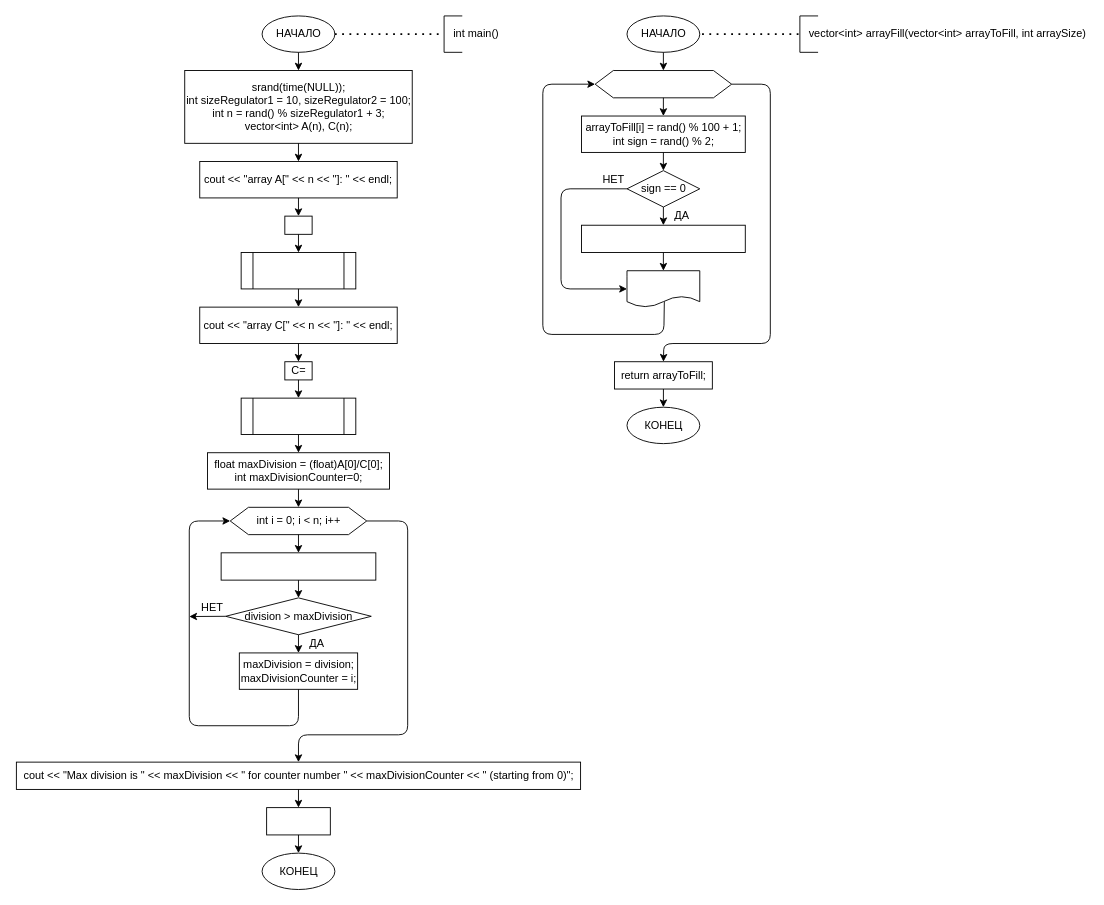
Some shapes in this 1104 by 905 pixel diagram are drawn without their labels. The centre of each missing label's shape, as x and y in pixels:
arrayFill(A, n): point 298,270
arrayFill(С, n): point 298,416
arrayToFill[i]: point 663,288
arrayToFill[i] = -1 * arrayToFill[i];: point 663,238
float division = (float)A[i] / C[i];: point 298,566
int i = 0; i < arraySize; i++: point 663,84
return 0;: point 298,821
А=: point 298,224
